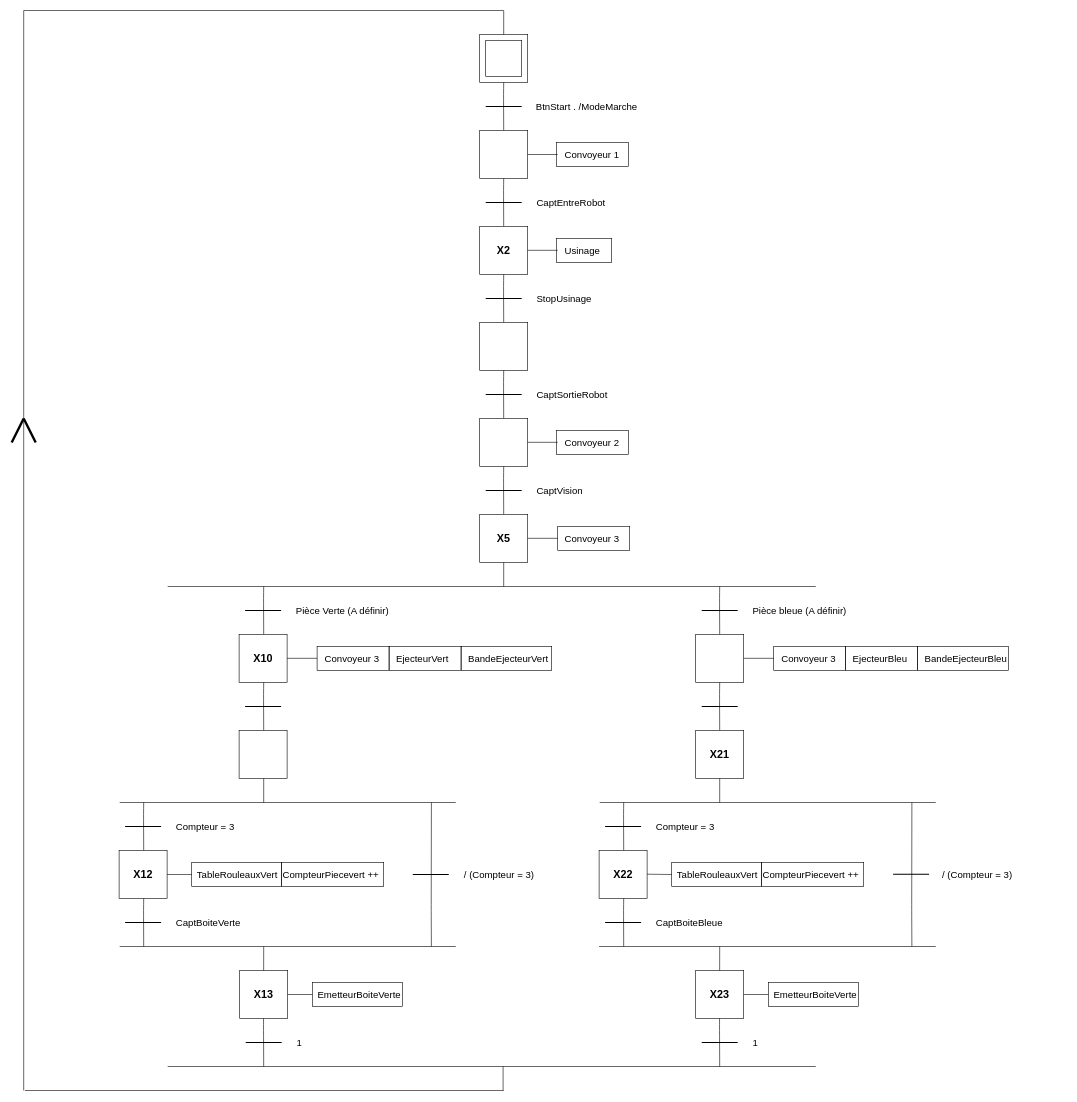
This 1077x1102 diagram has some shape labels left out. The centre of each missing label's shape, as x and y in pixels:
X0: the point at 503,58
X1: the point at 503,154
X11: the point at 262,754
X20: the point at 719,658
X3: the point at 503,346
X4: the point at 503,442
